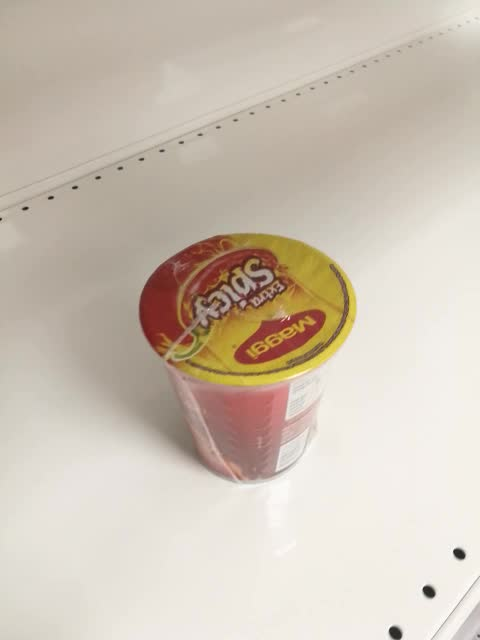maggi: (137, 231, 357, 486)
